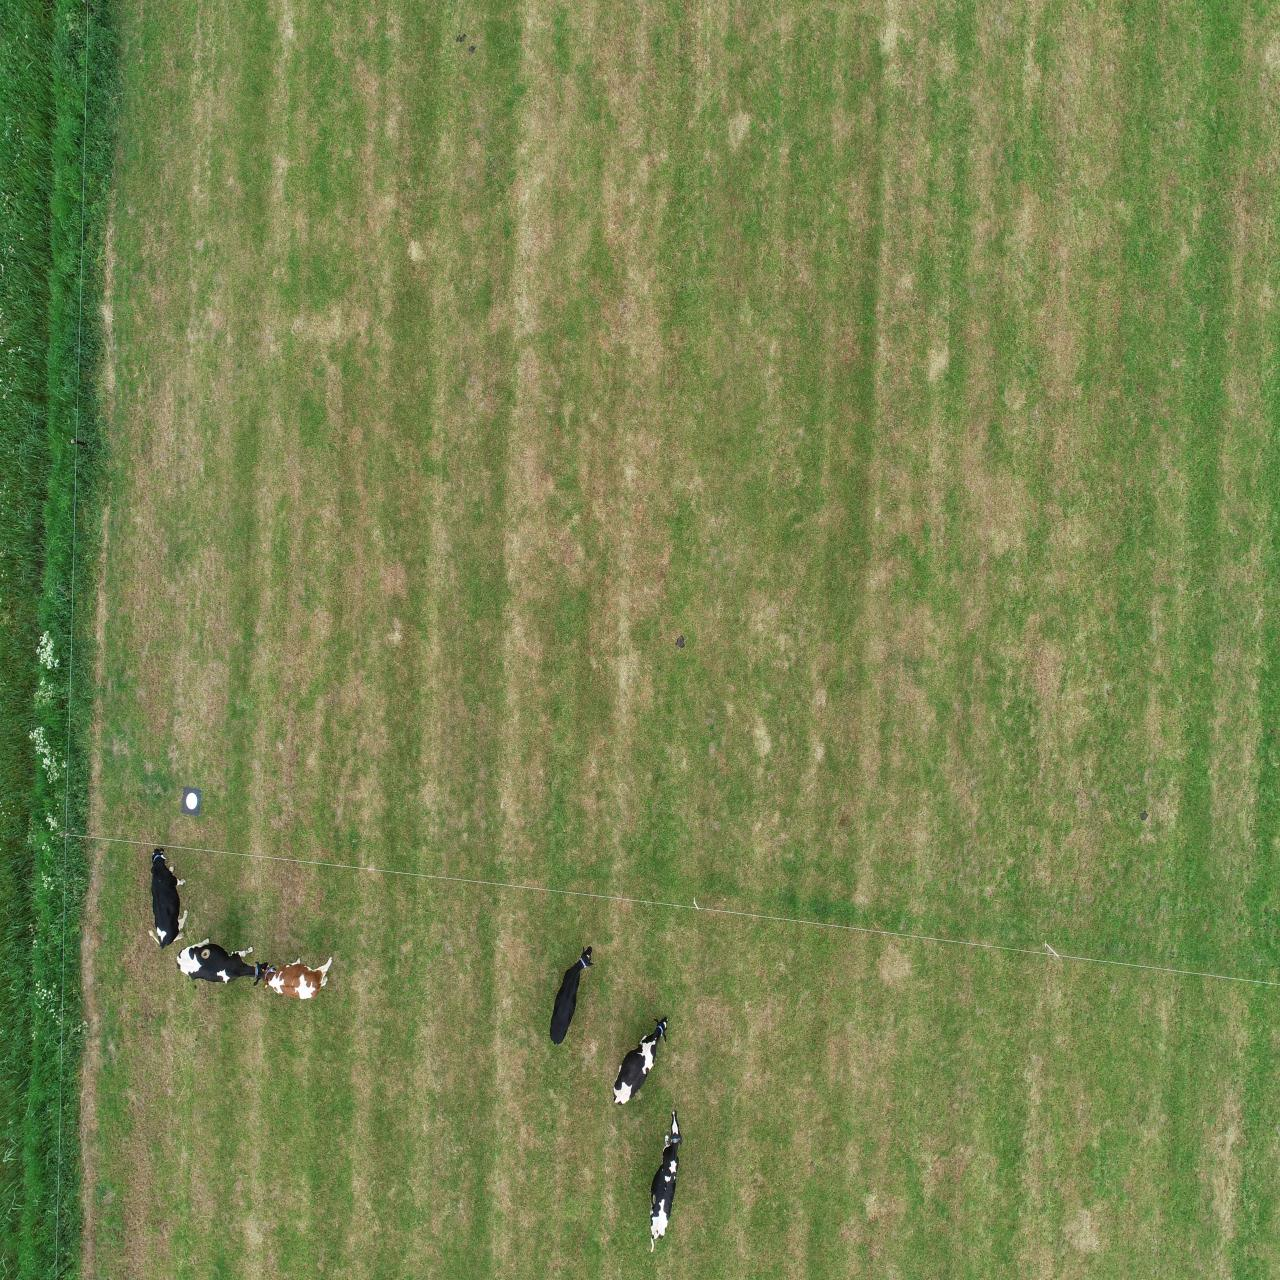cow: (447, 674, 477, 736), (557, 553, 577, 633)
